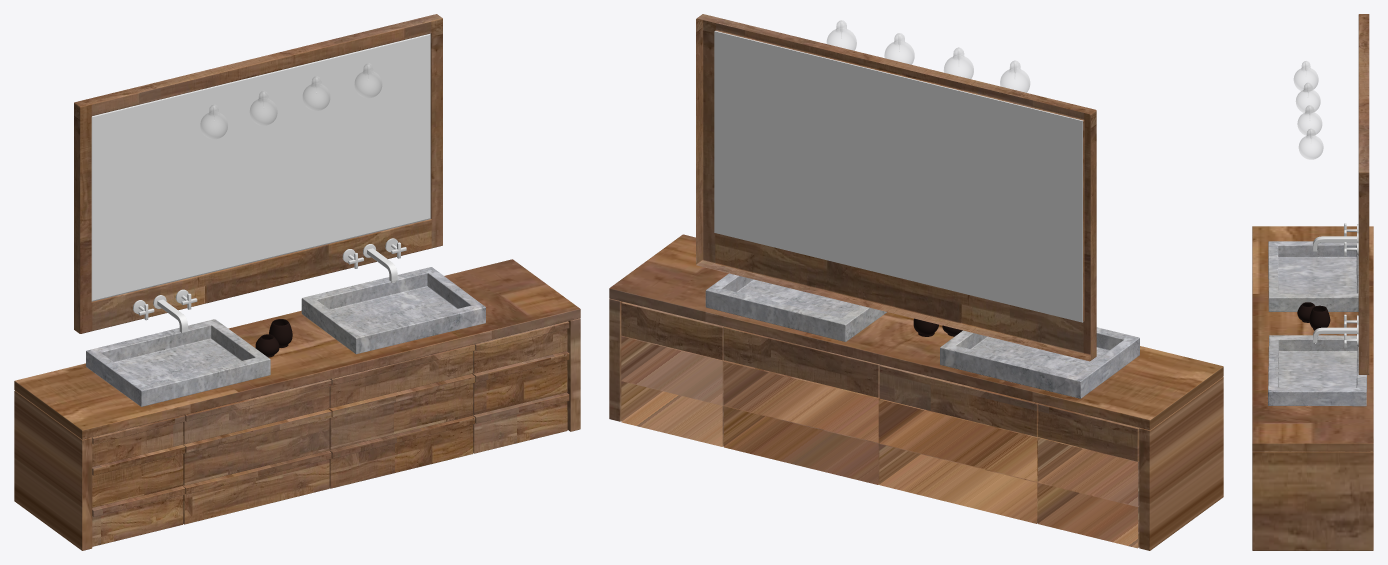
Rendered from vanity_double.glb.
The picture shows the model from 3 angles, left to right: view 1: azimuth 30°, elevation 25°; view 2: azimuth 150°, elevation 25°; view 3: azimuth 270°, elevation 25°; orthographic projection. The views are drawn at different scales.
Parts seen in each view (by area): view 1: Mirror, Wood_0013, Wood_0015, Wood_0012, Marble_0001, Marble_0002, Wood_0004, Wood_0007, Wood_0005, Wood_0008, Wood_0003, Wood_0006 (+10 smaller); view 2: Mirror, Wood_0013, Wood_0015, Wood_0012, Marble_0001, Wood_0004, Wood_0007, Wood_0005, Wood_0008, Marble_0002, Wood_0003, Wood_0006 (+6 smaller); view 3: Wood_0012, Wood_0015, Marble_0002, Marble_0001, Wood_0013, BulbGlass_0007, BulbGlass_0001, BulbGlass_0005, BulbGlass_0003, Pots_0001, StainlessSmooth_0005, StainlessSmooth_0012 (+1 smaller).
Part boxes in pixels (left/top/right/bottom): Mirror: left=91, top=33, right=430, bottom=301; Wood_0013: left=74, top=14, right=442, bottom=333; Wood_0015: left=14, top=259, right=580, bottom=439; Wood_0012: left=14, top=318, right=580, bottom=550; Marble_0001: left=86, top=319, right=270, bottom=406; Marble_0002: left=301, top=267, right=485, bottom=354; Wood_0004: left=183, top=409, right=331, bottom=485; Wood_0007: left=329, top=374, right=475, bottom=449; Wood_0005: left=183, top=450, right=331, bottom=524; Wood_0008: left=329, top=415, right=475, bottom=488; Wood_0003: left=183, top=379, right=331, bottom=444; Wood_0006: left=329, top=344, right=475, bottom=408; Mirror: left=714, top=31, right=1083, bottom=322; Wood_0013: left=696, top=14, right=1096, bottom=361; Wood_0015: left=609, top=234, right=1223, bottom=430; Wood_0012: left=609, top=298, right=1223, bottom=550; Marble_0001: left=940, top=327, right=1139, bottom=398; Wood_0004: left=879, top=399, right=1038, bottom=481; Wood_0007: left=723, top=360, right=879, bottom=442; Wood_0005: left=879, top=443, right=1038, bottom=523; Wood_0008: left=723, top=406, right=879, bottom=484; Marble_0002: left=705, top=273, right=886, bottom=341; Wood_0003: left=879, top=364, right=1038, bottom=436; Wood_0006: left=723, top=326, right=880, bottom=397; Wood_0012: left=1252, top=451, right=1373, bottom=550; Wood_0015: left=1252, top=226, right=1373, bottom=451; Marble_0002: left=1268, top=335, right=1366, bottom=406; Marble_0001: left=1268, top=241, right=1358, bottom=311; Wood_0013: left=1358, top=14, right=1369, bottom=374; BulbGlass_0007: left=1299, top=128, right=1323, bottom=159; BulbGlass_0001: left=1294, top=61, right=1318, bottom=91; BulbGlass_0005: left=1297, top=105, right=1321, bottom=135; BulbGlass_0003: left=1296, top=83, right=1320, bottom=113; Pots_0001: left=1309, top=305, right=1330, bottom=330; StainlessSmooth_0005: left=1313, top=236, right=1356, bottom=251; StainlessSmooth_0012: left=1313, top=327, right=1356, bottom=342.
Bounding box in the file's own units: 2.37 × 1.76 × 0.5599.
4 materials, 4 textured.
